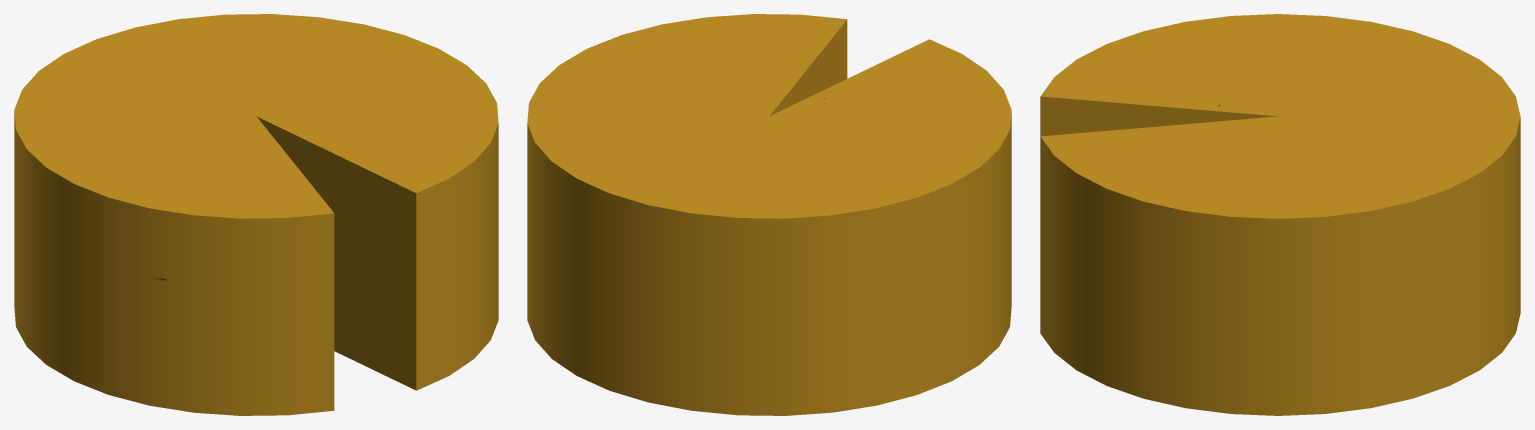
Rendered from cheese.fbx.
3 renders of one model, left to right at view 1: azimuth 30°, elevation 25°; view 2: azimuth 150°, elevation 25°; view 3: azimuth 270°, elevation 25°, orthographic.
Visible parts, largest first — view 1: cheese; view 2: cheese; view 3: cheese.
Part boxes in pixels (bbox=[...]): cheese: bbox=[14, 14, 498, 415]; cheese: bbox=[527, 14, 1011, 415]; cheese: bbox=[1040, 14, 1520, 415].
Size of the model in its own units: 65.68 by 29.47 by 65.05.
